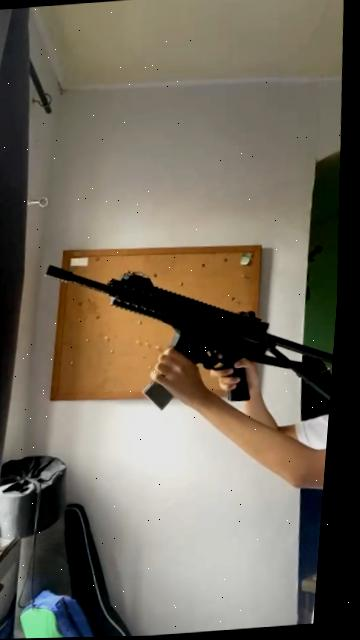rifle: (30, 234, 346, 425)
